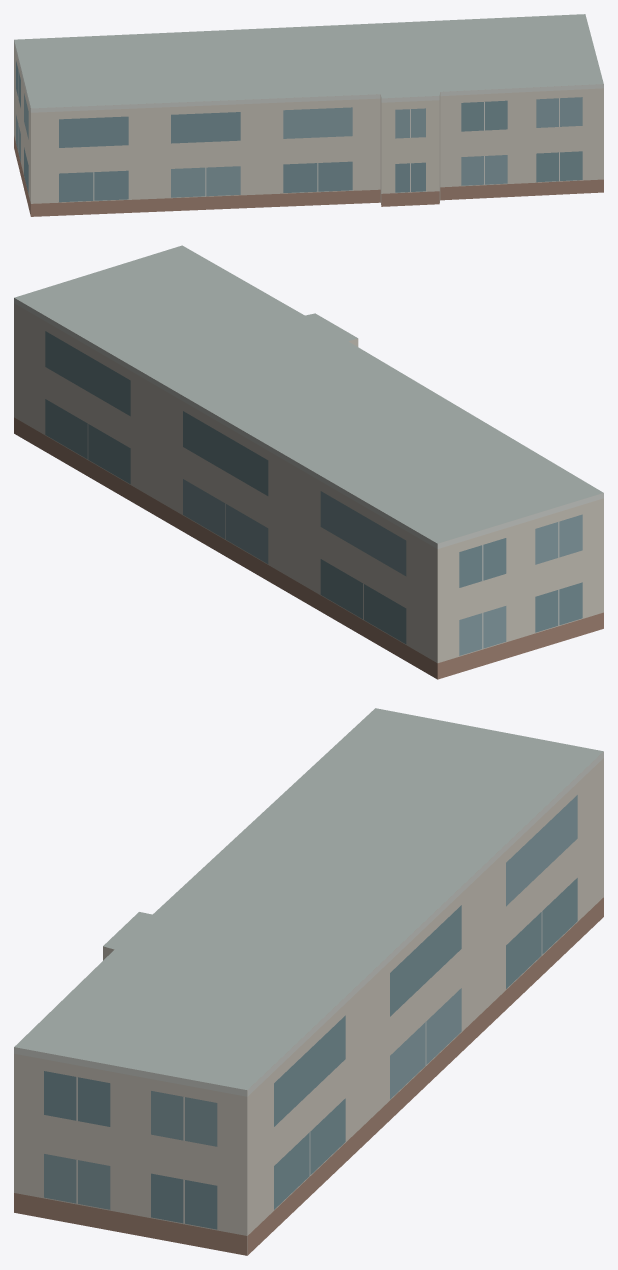
File: survey-upis-32659421.glb
3 views of the same model, one above another, from view 1: azimuth 30°, elevation 25°; view 2: azimuth 150°, elevation 25°; view 3: azimuth 270°, elevation 25° (orthographic). The views are drawn at different scales.
Visible parts, largest first — view 1: survey-upis-32659421.tmp; view 2: survey-upis-32659421.tmp; view 3: survey-upis-32659421.tmp.
Boxes of the visible parts, x1,y1,x2,y2 form: survey-upis-32659421.tmp: [14, 14, 603, 216]; survey-upis-32659421.tmp: [14, 245, 603, 679]; survey-upis-32659421.tmp: [14, 708, 603, 1255].
Bounding box in the file's own units: 30.2 × 6.1 × 19.7.
